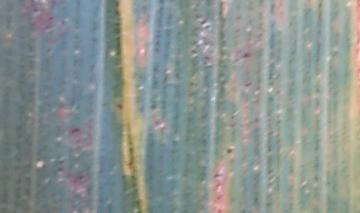tarspot: (196, 14, 209, 23), (240, 51, 251, 60), (115, 101, 124, 112), (70, 126, 81, 135), (211, 172, 225, 179), (225, 146, 233, 154), (46, 14, 55, 21), (77, 173, 84, 182), (202, 23, 211, 30), (31, 6, 38, 14), (46, 46, 52, 55), (193, 14, 203, 19), (28, 1, 36, 5), (216, 208, 222, 213)
